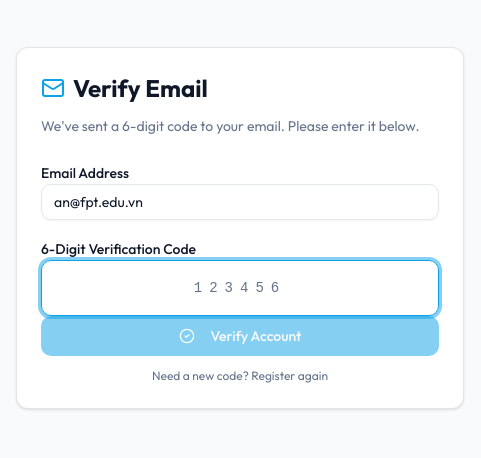
it: app/verify › renders server error when verification code is rejected
The width and height of the screenshot is (481, 458).
In the field labelled "6-Digit Verification Code": (240, 288) [41,260,439,316], type "000000"
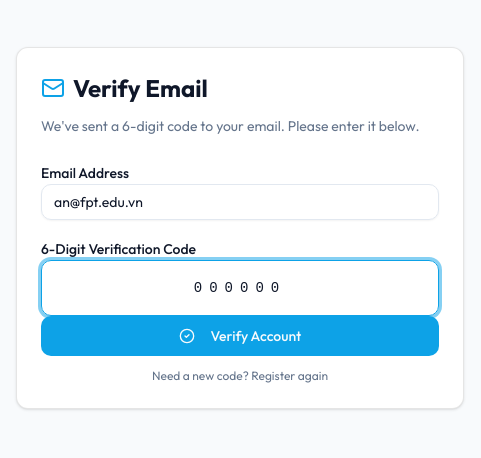
Click the button "Verify Account": click(240, 336) [41,316,439,356]
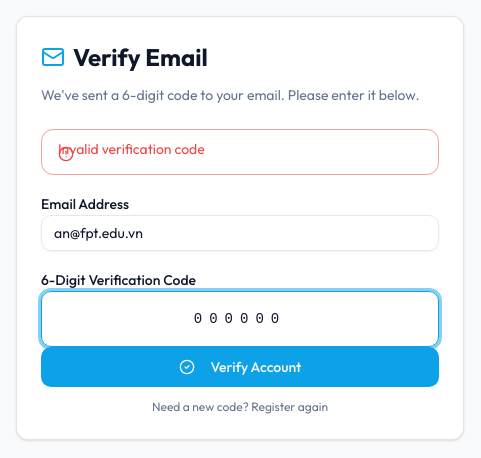
Now the message reads "Invalid verification code", box [58,140,205,158]
